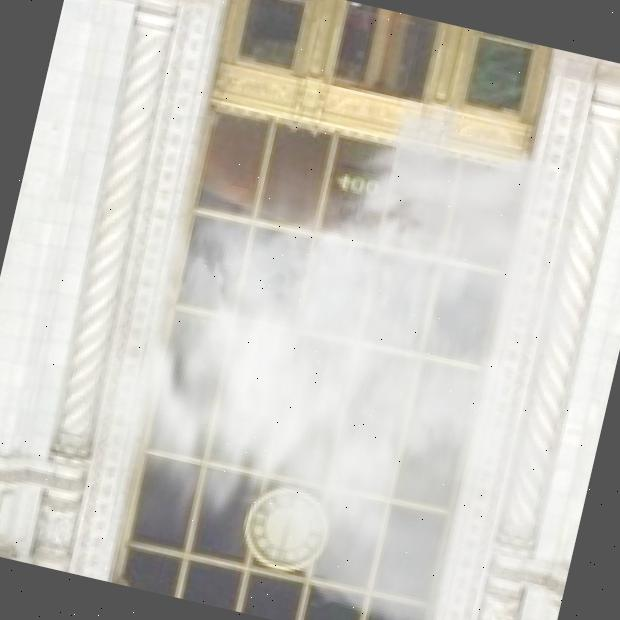smoke: (26, 26, 620, 620)
